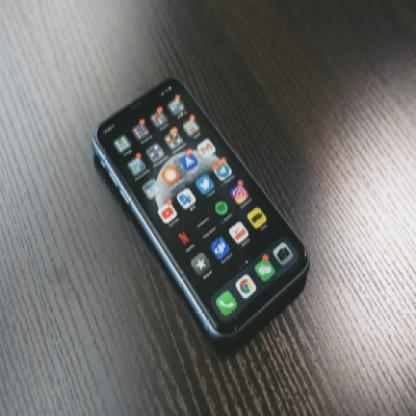cell-phone: (85, 70, 313, 349)
